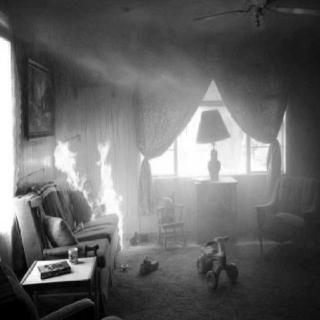Smoke: (52, 11, 186, 75)
